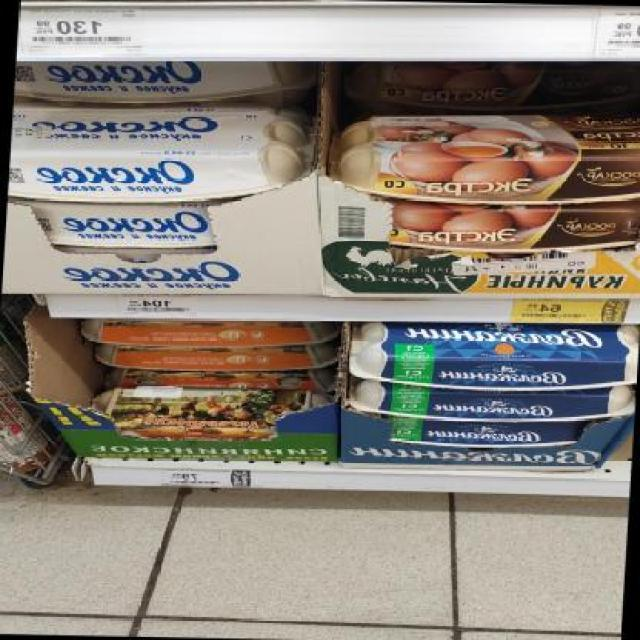Egg: (327, 107, 639, 210), (8, 106, 306, 207), (340, 60, 639, 118), (14, 55, 312, 112), (387, 196, 639, 257), (33, 201, 216, 252)
